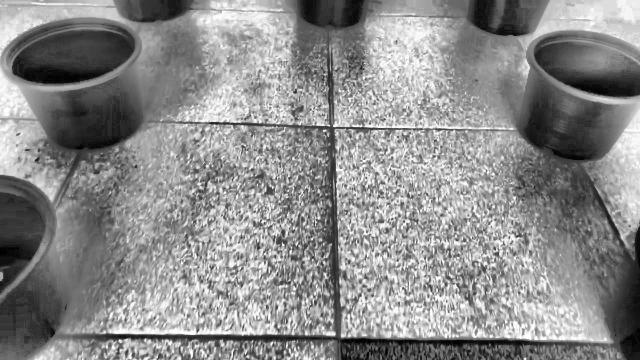pot: (0, 16, 146, 152), (516, 30, 640, 162)
